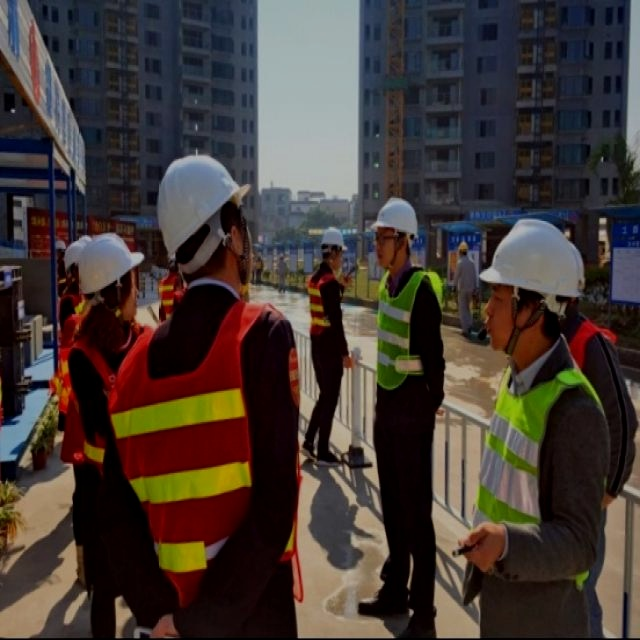Con_Casco: (372, 194, 419, 266)
Con_Chaleco: (113, 312, 303, 600), (468, 359, 602, 572), (366, 273, 448, 401), (309, 270, 347, 338)
